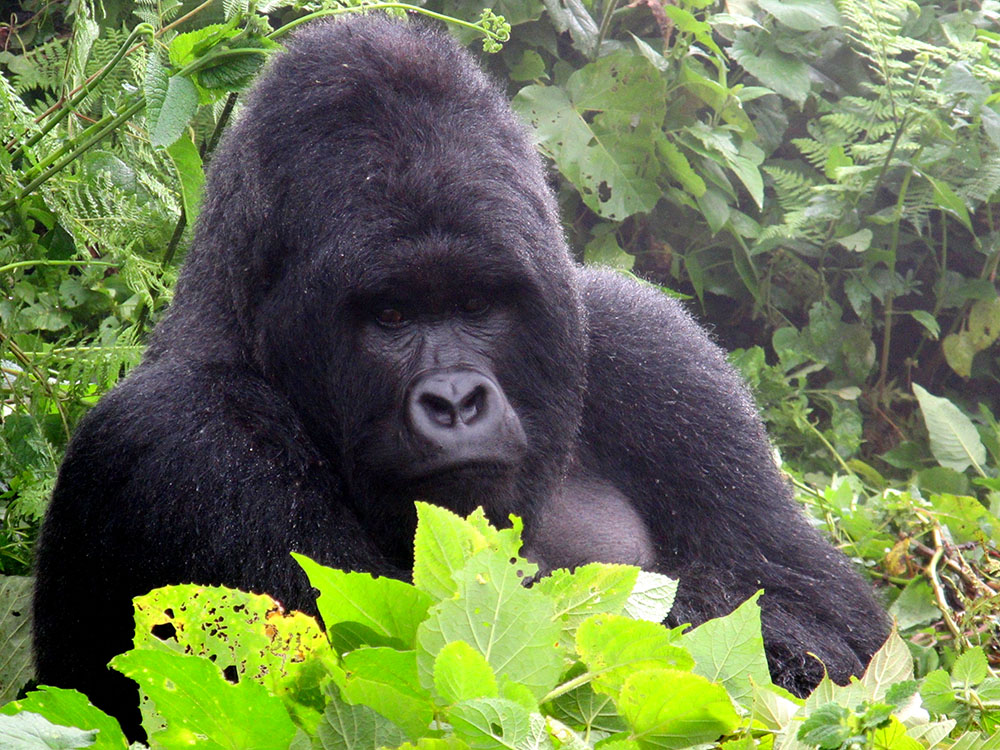Goriila: (115, 27, 844, 651)
